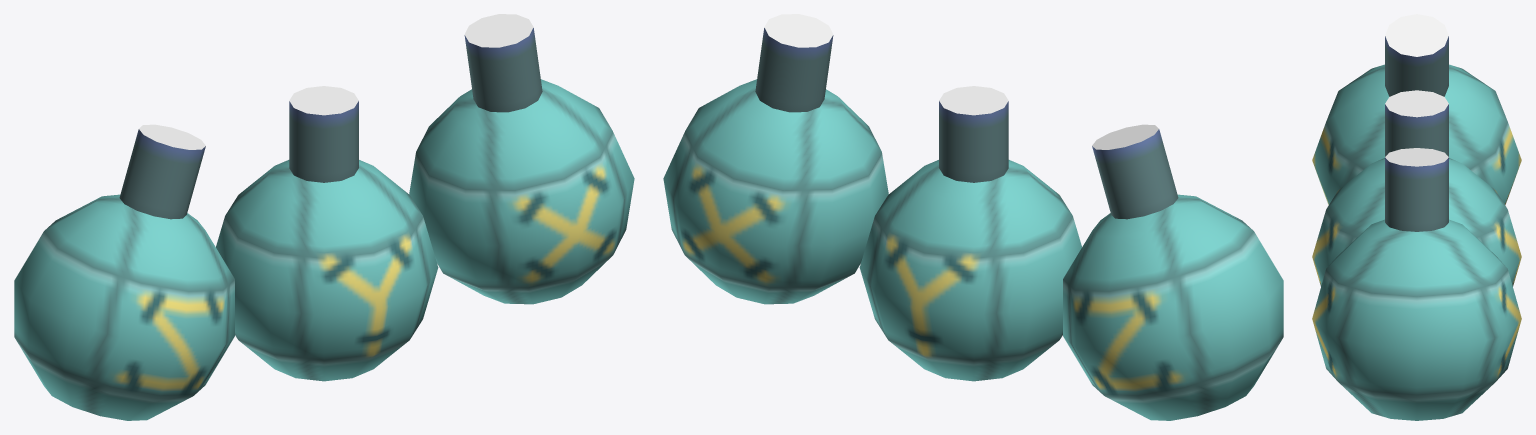
Rendered from back_acc_12.FBX.
3 views of the same model, side by side, from view 1: azimuth 30°, elevation 25°; view 2: azimuth 150°, elevation 25°; view 3: azimuth 270°, elevation 25° (orthographic). The views are drawn at different scales.
Visible parts, largest first — view 1: back_acc_12; view 2: back_acc_12; view 3: back_acc_12.
Part boxes in pixels (x1,y1,x2,y2): back_acc_12: (14,14,634,420); back_acc_12: (663,14,1283,420); back_acc_12: (1312,14,1521,420).
Bounding box in the file's own units: 28.12 × 13.73 × 9.42.
